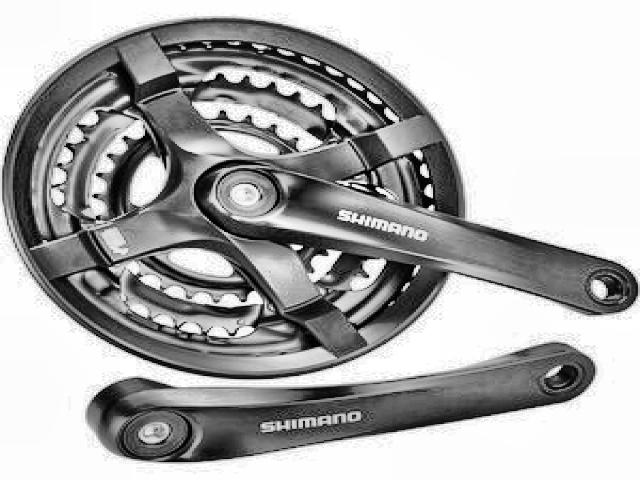cranks_set: (0, 16, 640, 381)
